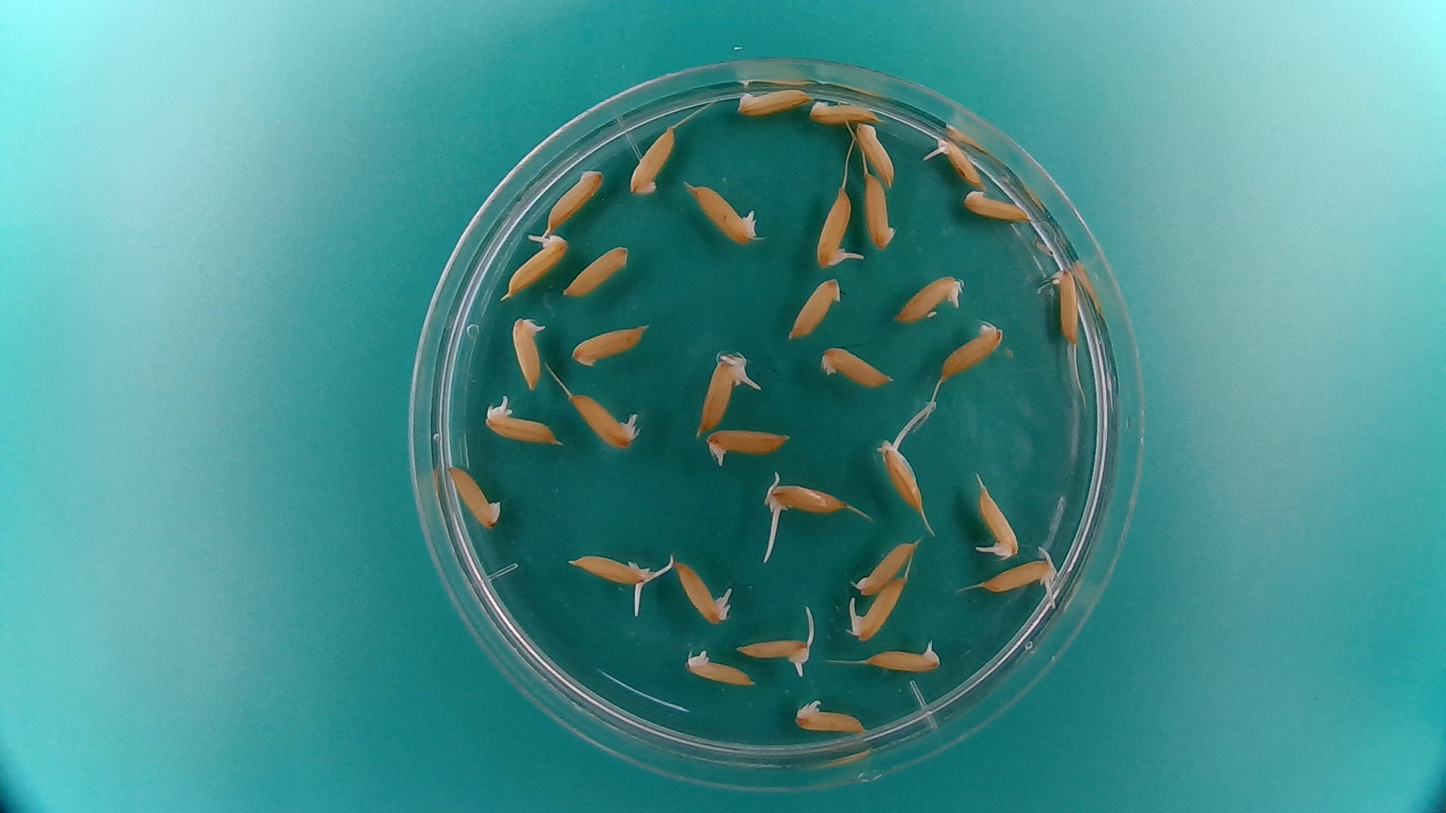no: (689, 184, 765, 243), (784, 274, 846, 343), (938, 318, 1006, 379), (851, 537, 920, 597), (626, 120, 679, 198), (562, 242, 633, 299), (443, 463, 503, 528), (545, 166, 605, 230), (568, 321, 649, 368), (817, 343, 895, 390), (1044, 254, 1083, 346), (862, 169, 899, 252), (682, 647, 758, 687), (853, 120, 898, 187), (733, 82, 812, 118), (960, 189, 1034, 225), (807, 94, 883, 126)
yes: (672, 556, 734, 627), (563, 394, 641, 449), (508, 233, 570, 300), (853, 574, 912, 636), (975, 486, 1022, 562), (890, 274, 961, 324), (703, 354, 749, 431), (703, 428, 792, 467), (485, 402, 561, 447), (878, 443, 926, 512), (572, 548, 652, 588), (813, 190, 850, 272), (732, 634, 813, 671), (932, 136, 985, 192), (865, 638, 944, 675), (790, 699, 867, 736), (764, 482, 845, 517), (981, 557, 1058, 593), (510, 316, 545, 391)
